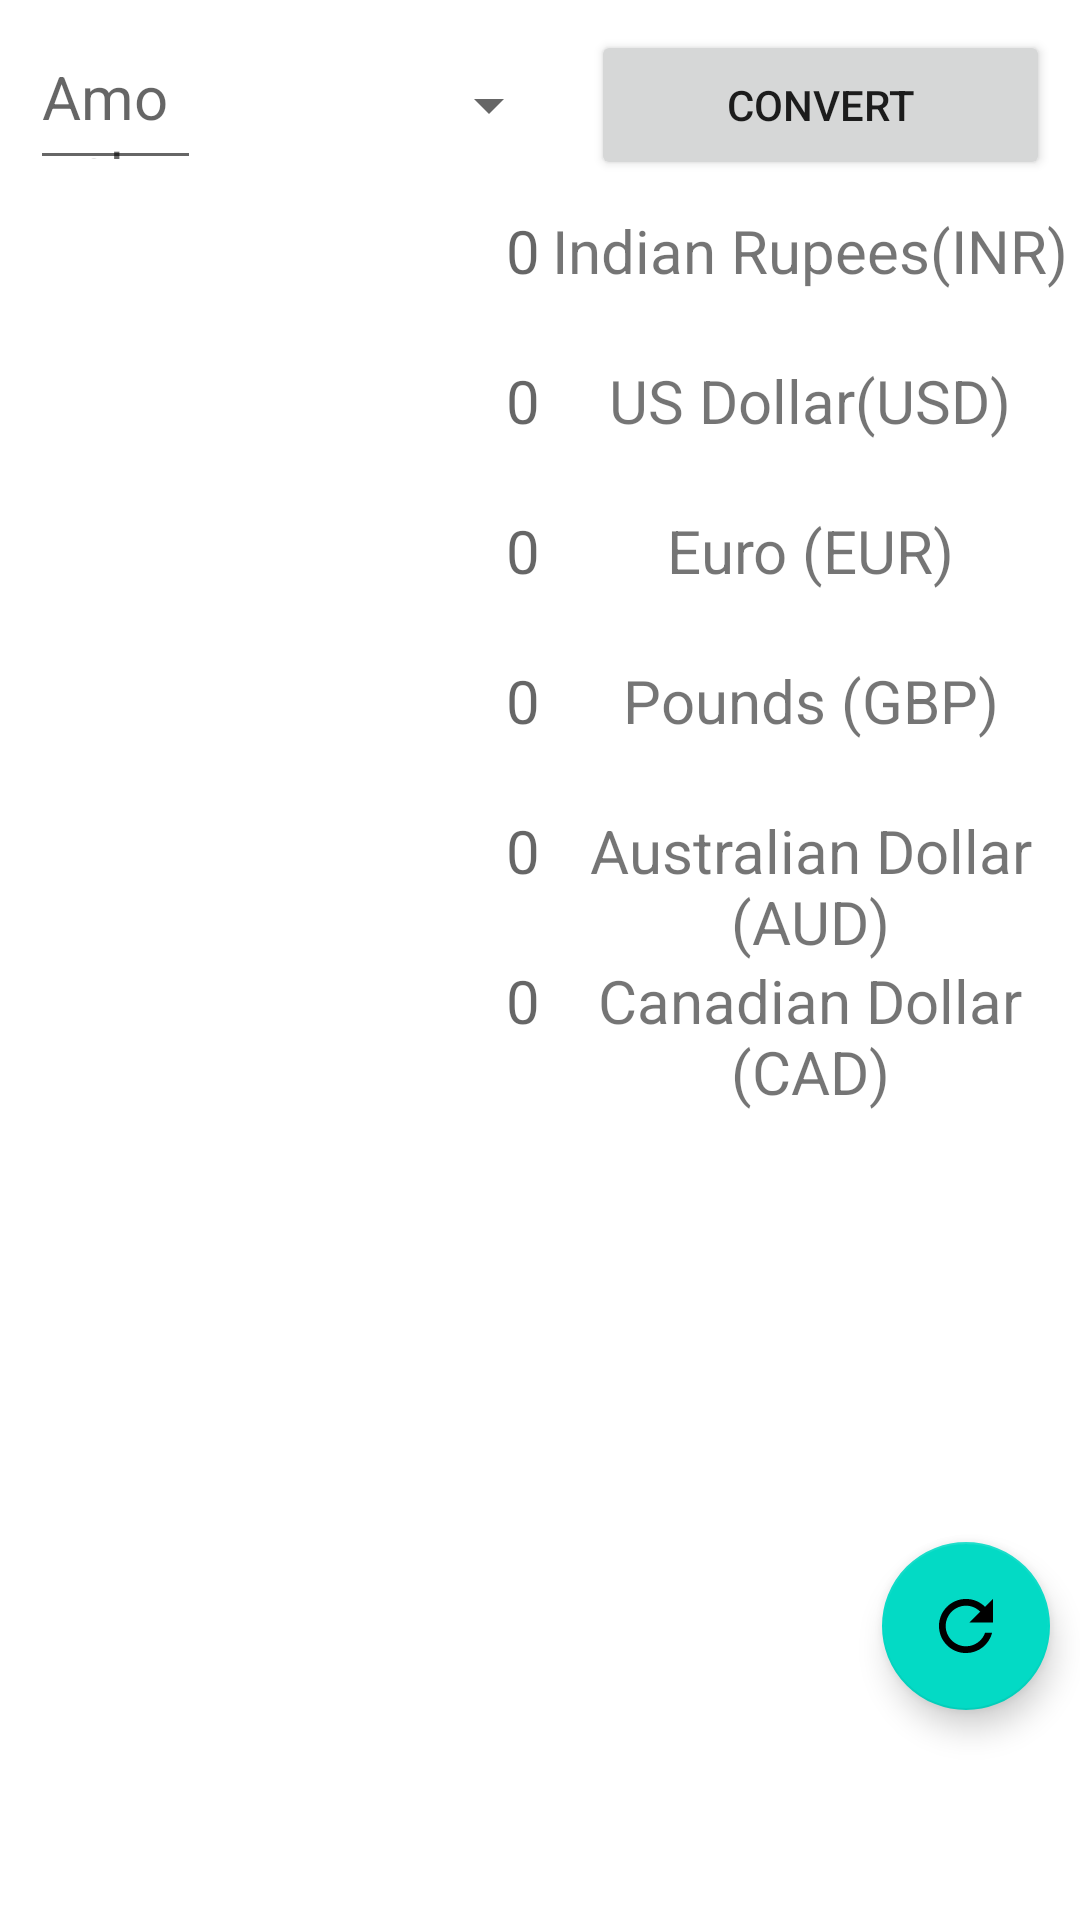

Named icons in this screenshot (1080x1920) and their centers, point (x, y):
refresh: point (966, 1626)
